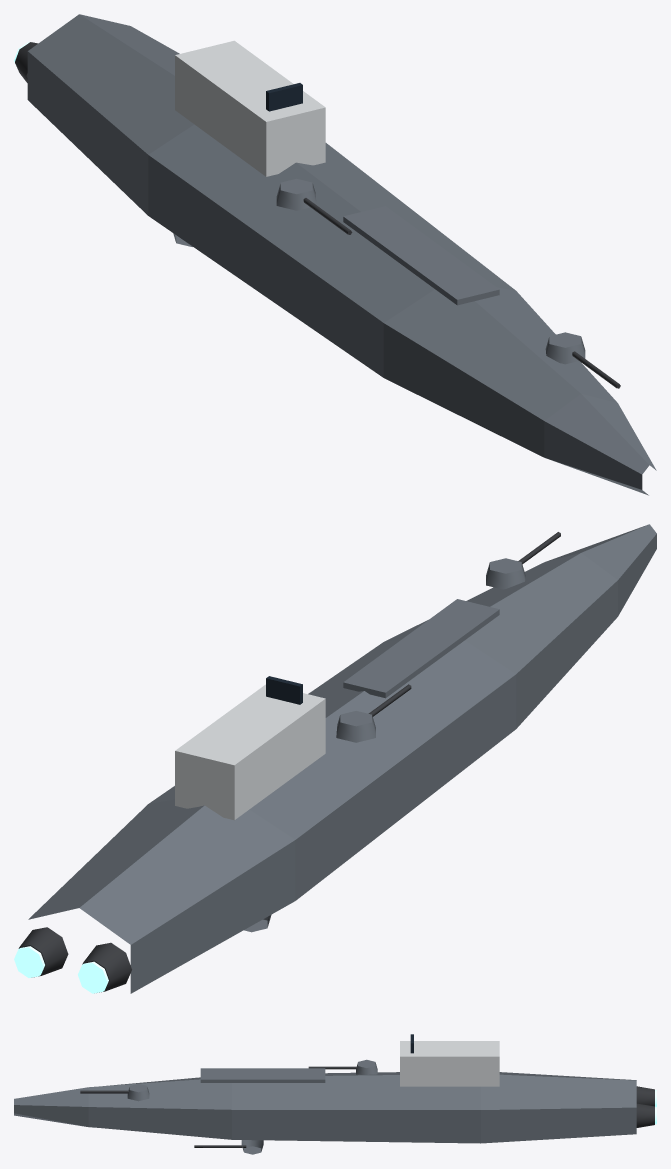
File: space_ship_frigate_mk3.glb
3 renders of one model, top to bottom at view 1: azimuth 30°, elevation 25°; view 2: azimuth 150°, elevation 25°; view 3: azimuth 270°, elevation 25°, orthographic. The views are drawn at different scales.
Visible parts, largest first — view 1: body, turret_2, turret_0; view 2: body, engine_0, engine_1, turret_2, turret_0; view 3: body, turret_0, turret_2, engine_1, turret_1, engine_0.
Part boxes in pixels (x1,y1,x2,y2): body: (27,14,656,495); turret_2: (276,178,352,234); turret_0: (545,332,620,388); body: (28,524,656,993); engine_0: (78,942,131,993); engine_1: (14,927,68,977); turret_2: (336,684,411,742); turret_0: (486,532,560,589); body: (14,1034,636,1143); turret_0: (80,1084,149,1101); turret_2: (308,1059,377,1074); engine_1: (636,1103,656,1127); turret_1: (194,1140,263,1154); engine_0: (636,1086,656,1106).
Size of what is drawn, in the model's own units: 5.54 by 6.84 by 38.42.
